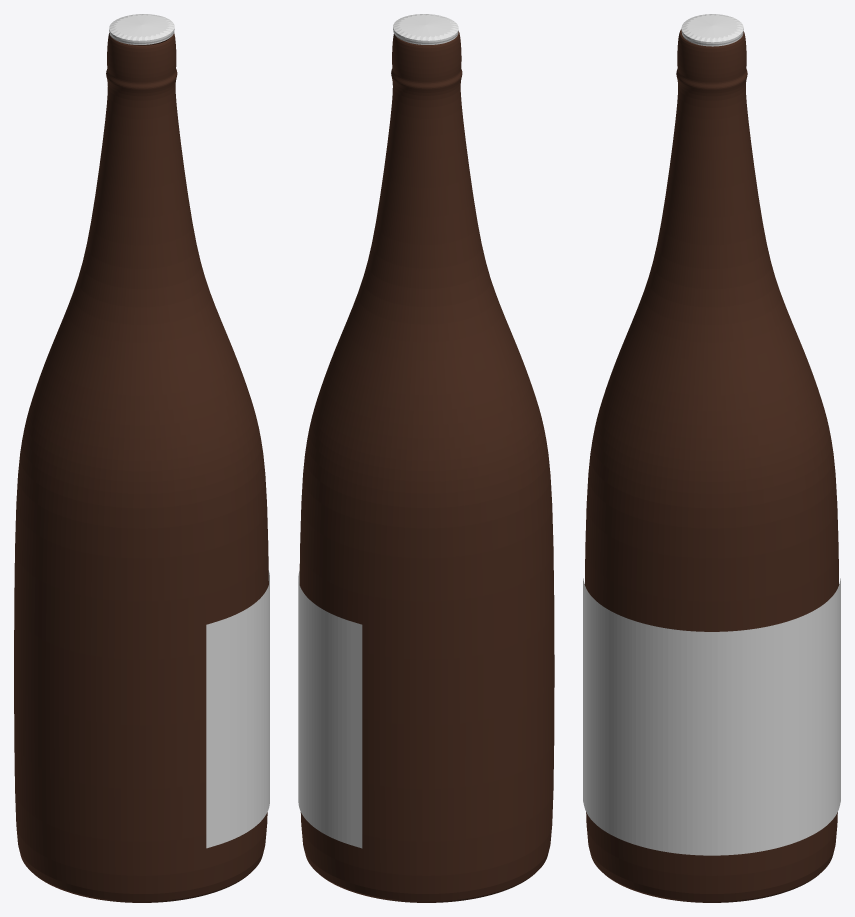
Rendered from sakeBottle_003(pl36k).fbx.
3 renders of one model, left to right at view 1: azimuth 30°, elevation 25°; view 2: azimuth 150°, elevation 25°; view 3: azimuth 270°, elevation 25°, orthographic.
Parts seen in each view (by area): view 1: ビン, ラベル, フタ; view 2: ビン, ラベル, フタ; view 3: ビン, ラベル, フタ.
Part boxes in pixels (x1,y1,x2,y2): ビン: [14, 33, 268, 902]; ラベル: [206, 570, 269, 848]; フタ: [109, 14, 174, 44]; ビン: [299, 31, 554, 902]; ラベル: [298, 571, 362, 848]; フタ: [393, 14, 458, 44]; ビン: [584, 29, 839, 902]; ラベル: [583, 578, 840, 855]; フタ: [681, 14, 743, 46].
Bounding box in the file's own units: 29.79 × 106 × 30.
